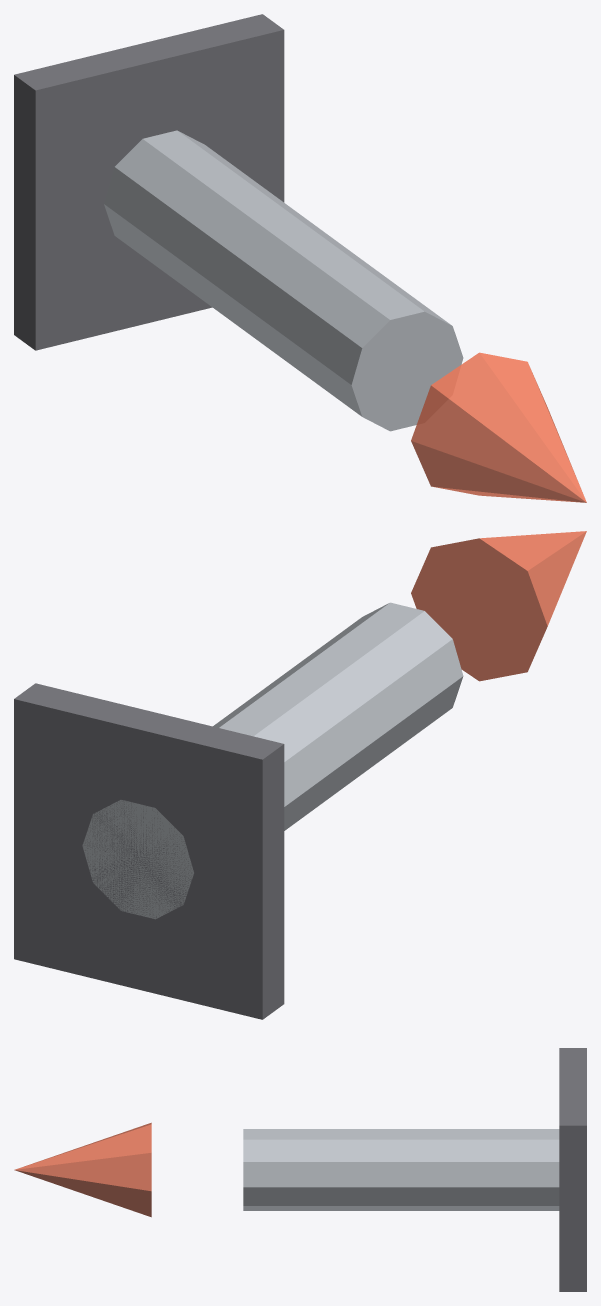
The model's file is quest_signal_flare_beacon.glb.
The picture shows the model from 3 angles, top to bottom: view 1: azimuth 30°, elevation 25°; view 2: azimuth 150°, elevation 25°; view 3: azimuth 270°, elevation 25°; orthographic projection. The views are drawn at different scales.
Visible parts, largest first — view 1: base, pole, flare; view 2: base, pole, flare; view 3: pole, base, flare.
Part boxes in pixels (x1,y1,x2,y2): base: (14, 14, 284, 350); pole: (104, 130, 463, 431); flare: (411, 352, 586, 502); base: (14, 683, 284, 1019); pole: (82, 602, 463, 919); flare: (411, 531, 586, 681); pole: (243, 1129, 559, 1210); base: (559, 1048, 586, 1291); flare: (14, 1122, 151, 1217).
Size of the model in its own units: 0.8 by 0.8 by 2.5.
